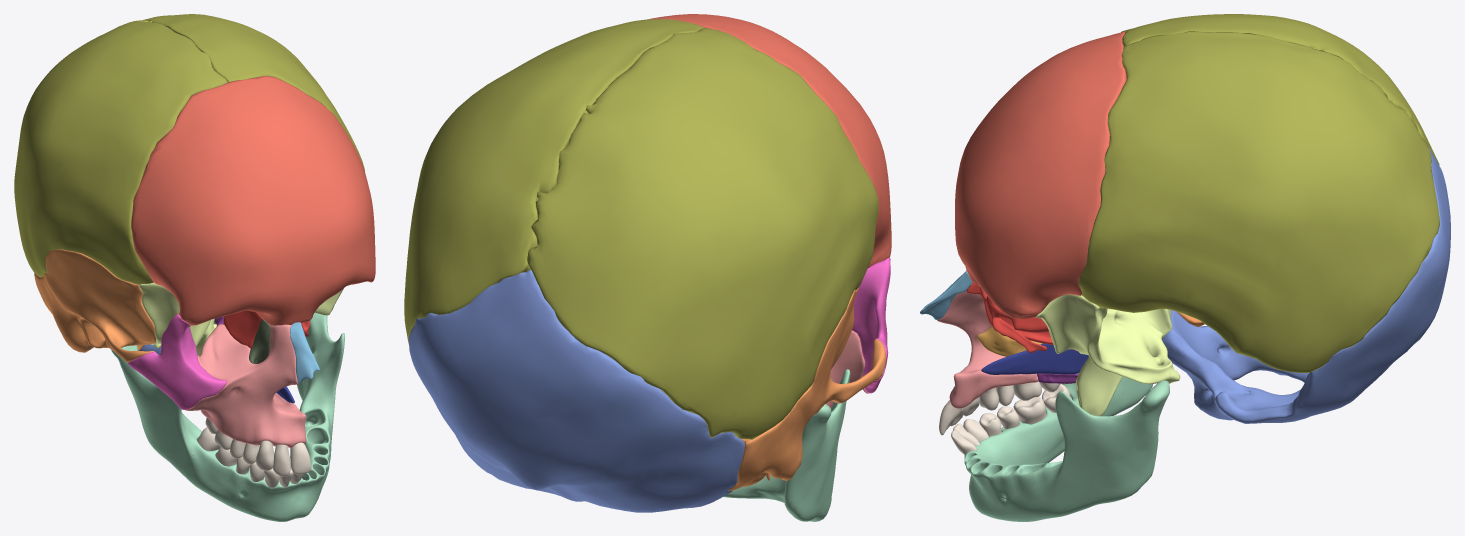
File: skull.glb
The picture shows the model from 3 angles, left to right: view 1: azimuth 30°, elevation 25°; view 2: azimuth 150°, elevation 25°; view 3: azimuth 270°, elevation 25°; orthographic projection. The views are drawn at different scales.
Parts seen in each view (by area): view 1: Frontal bone, Parietal bone.r, Mandible bone, Maxilla bone.r, Temporal bone.r, Parietal bone.l, Zygomatic bone.r, Sphenoid bone, Ethmoid Bone, Nasal bone.r, Lower lateral incisor.r, Lacrimal bone.r (+2 smaller); view 2: Parietal bone.r, Occipital bone, Parietal bone.l, Frontal bone, Temporal bone.r, Mandible bone, Zygomatic bone.r, Maxilla bone.r; view 3: Parietal bone.l, Frontal bone, Mandible bone, Occipital bone, Sphenoid bone, Parietal bone.r, Maxilla bone.r, Vomer, Ethmoid Bone, Nasal bone.r, Inferior nasal concha bone.r, Lower first molar tooth.r (+1 smaller).
Boxes of the visible parts, bbox=[...] form: Frontal bone: bbox=[131, 76, 375, 325]; Parietal bone.r: bbox=[14, 20, 227, 284]; Mandible bone: bbox=[111, 313, 344, 521]; Maxilla bone.r: bbox=[185, 324, 306, 447]; Temporal bone.r: bbox=[34, 249, 156, 362]; Parietal bone.l: bbox=[143, 14, 365, 172]; Zygomatic bone.r: bbox=[128, 313, 227, 409]; Sphenoid bone: bbox=[139, 282, 343, 356]; Ethmoid Bone: bbox=[223, 310, 309, 348]; Nasal bone.r: bbox=[290, 322, 319, 383]; Lower lateral incisor.r: bbox=[279, 442, 311, 487]; Lacrimal bone.r: bbox=[249, 319, 270, 363]; Parietal bone.r: bbox=[527, 28, 878, 439]; Occipital bone: bbox=[408, 269, 744, 512]; Parietal bone.l: bbox=[404, 19, 703, 343]; Frontal bone: bbox=[649, 14, 891, 267]; Temporal bone.r: bbox=[728, 287, 886, 491]; Mandible bone: bbox=[723, 369, 850, 521]; Zygomatic bone.r: bbox=[852, 258, 890, 393]; Maxilla bone.r: bbox=[826, 330, 868, 409]; Parietal bone.l: bbox=[1078, 31, 1439, 372]; Frontal bone: bbox=[955, 31, 1126, 318]; Mandible bone: bbox=[964, 373, 1169, 521]; Occipital bone: bbox=[1162, 147, 1450, 423]; Sphenoid bone: bbox=[1036, 294, 1180, 415]; Parietal bone.r: bbox=[1121, 14, 1439, 165]; Maxilla bone.r: bbox=[937, 284, 1038, 408]; Vomer: bbox=[981, 343, 1088, 374]; Ethmoid Bone: bbox=[966, 283, 1076, 352]; Nasal bone.r: bbox=[920, 270, 972, 319]; Inferior nasal concha bone.r: bbox=[977, 326, 1042, 356]; Lower first molar tooth.r: bbox=[1013, 396, 1046, 424].
Size of the model in its own units: 0.1485 by 0.2013 by 0.2038.
